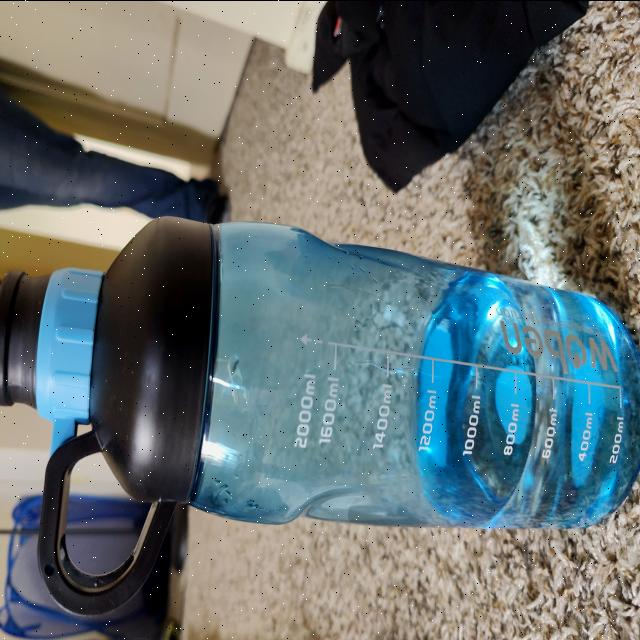bottle: (0, 210, 638, 620)
